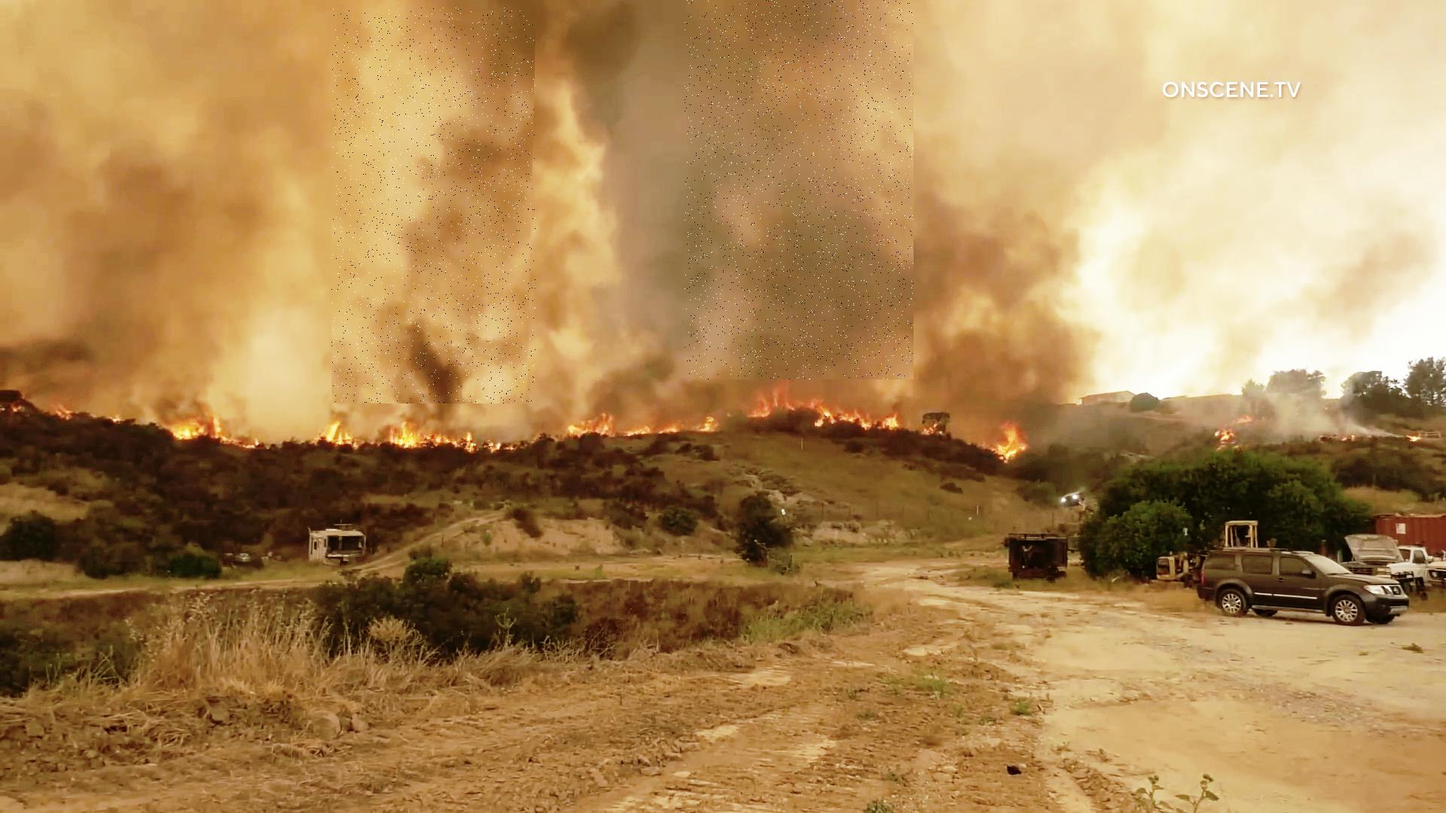smoke: (685, 0, 914, 379), (332, 8, 536, 404)
